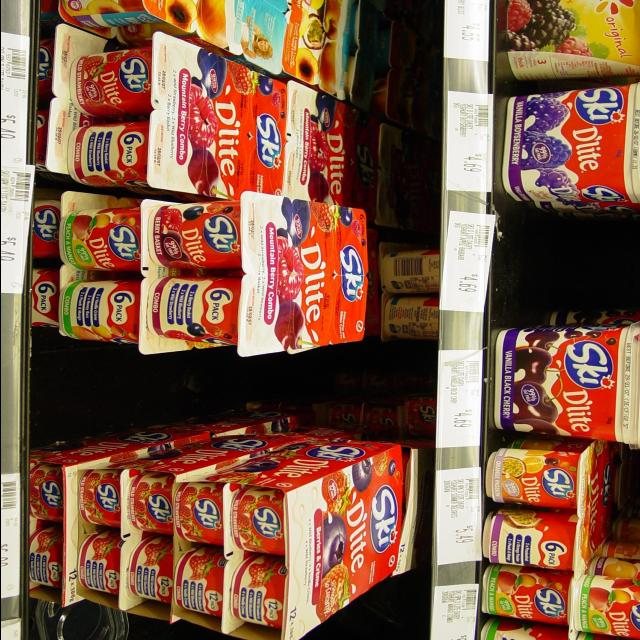empty_space: (497, 211, 632, 313), (26, 357, 263, 415)
